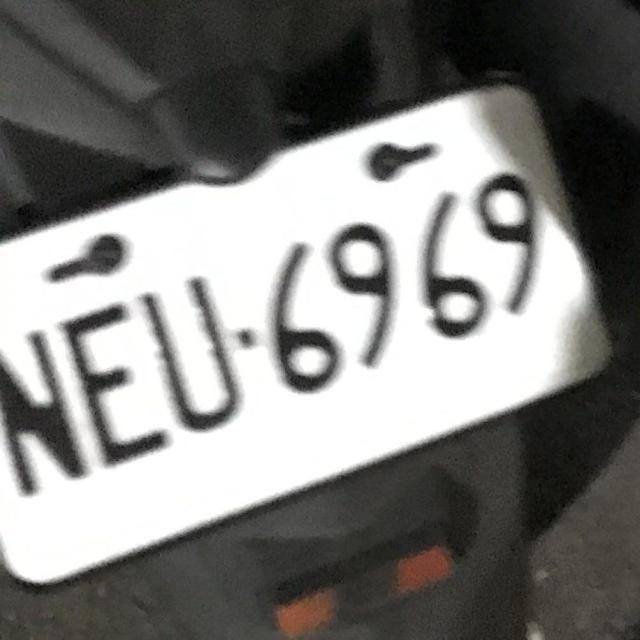W: (0, 75, 628, 594)
